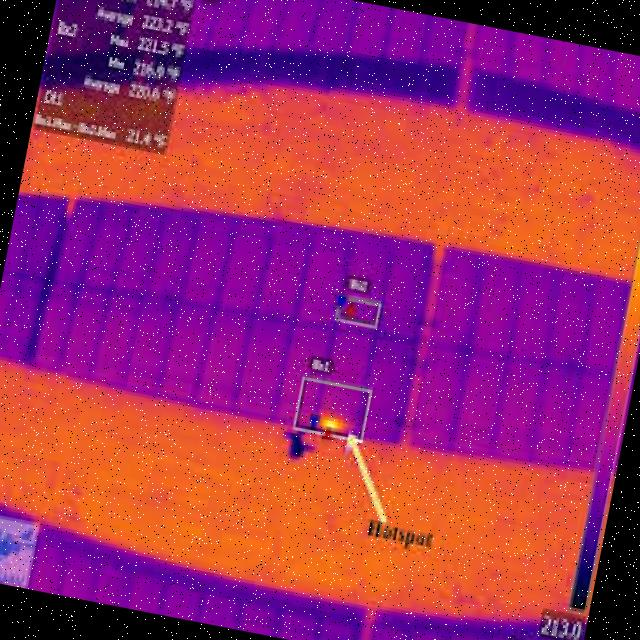Hotspot: (314, 412, 352, 434)
